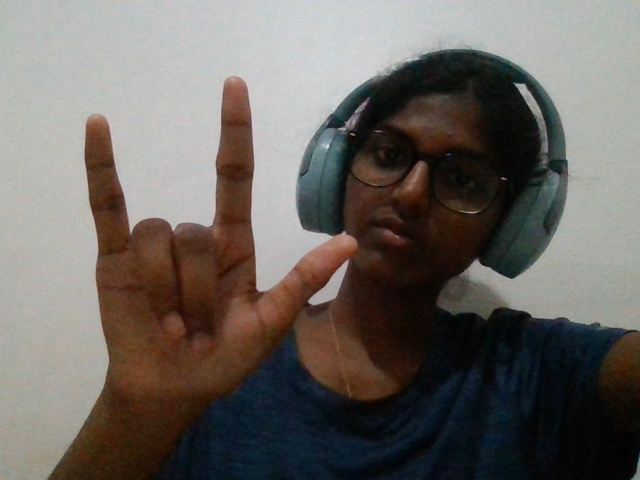I Love You: (33, 69, 389, 464)
